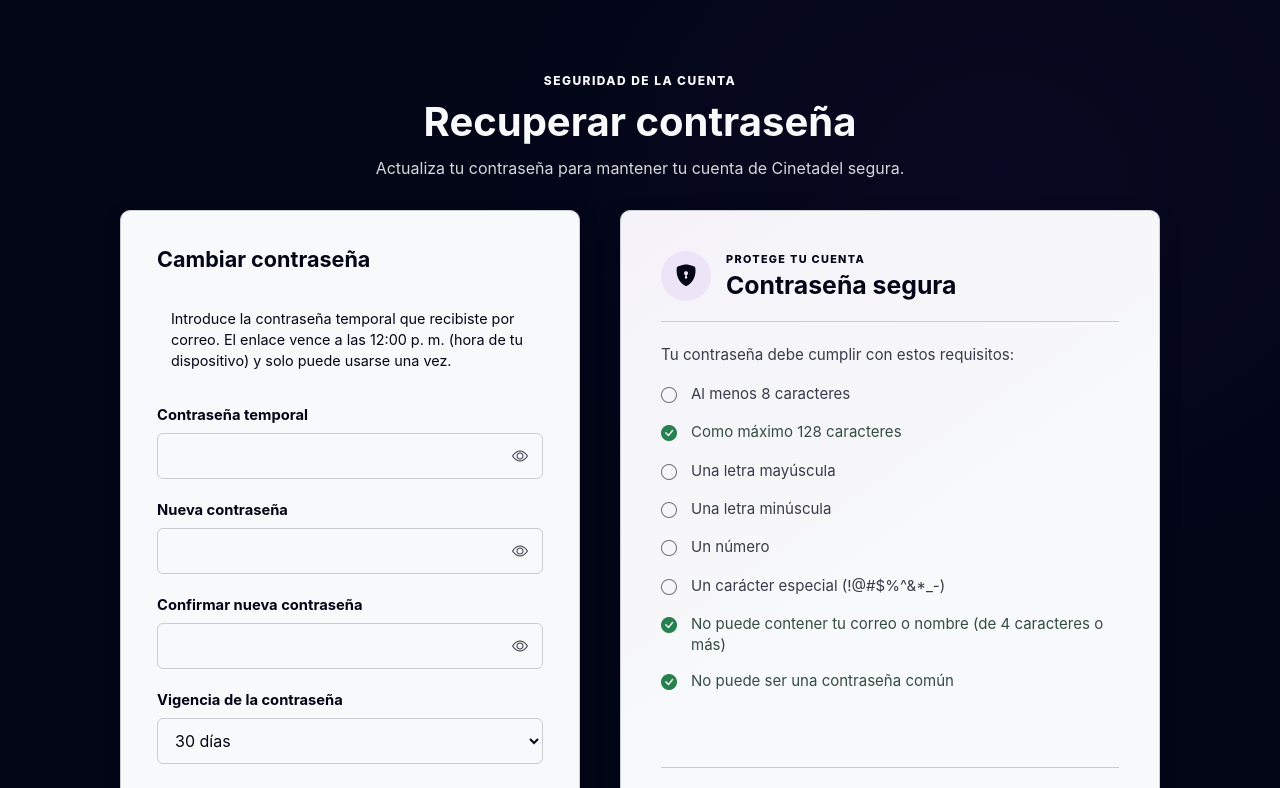
Test case: ChangePasswordView.vue › displays recovery rejection TEMPORARY_PASSWORD_INCORRECT without claiming success
The image size is (1280, 788).
In the password field with id "currentPassword": (350, 456) x1=157 y1=433 x2=543 y2=479, type "temporary"
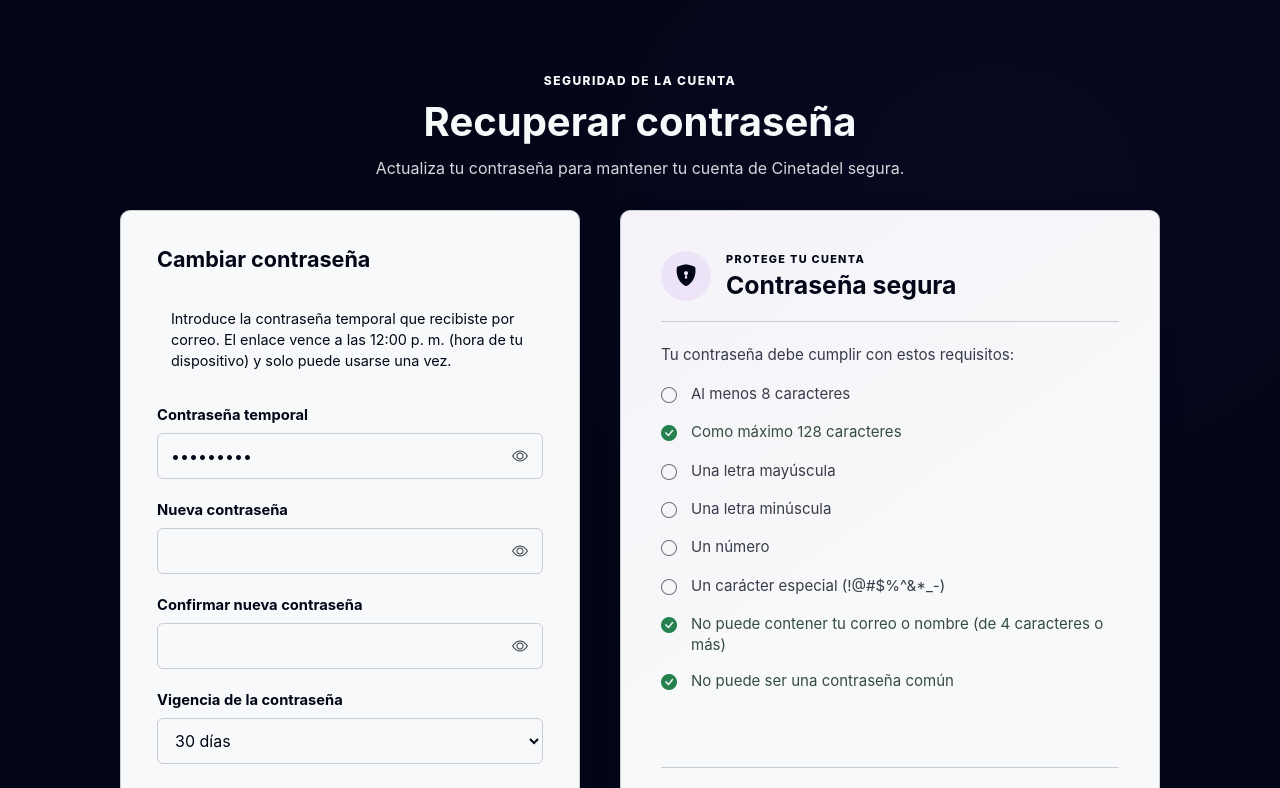
In the password field with id "newPassword": (350, 551) x1=157 y1=528 x2=543 y2=574, type "NewSecret123!"
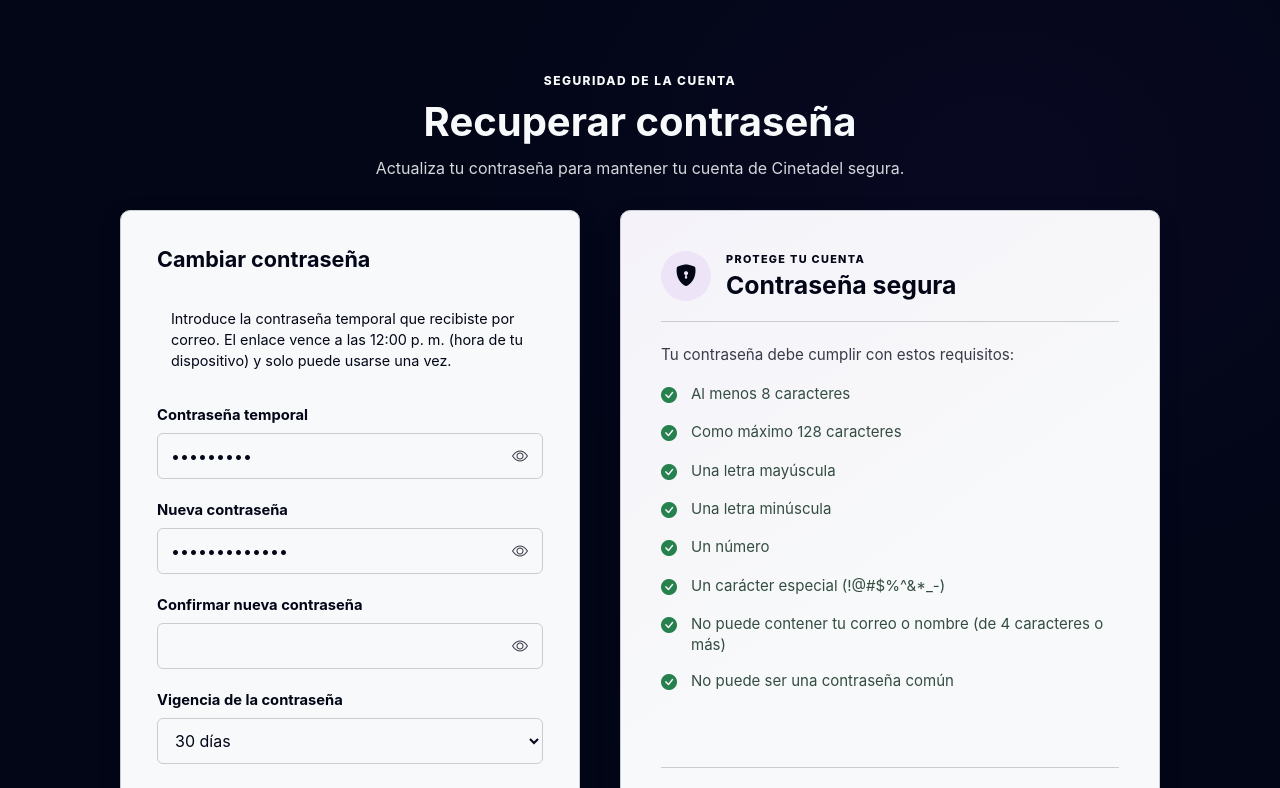
In the password field with id "confirmNewPassword": (350, 646) x1=157 y1=623 x2=543 y2=669, type "NewSecret123!"
(page scrolled)
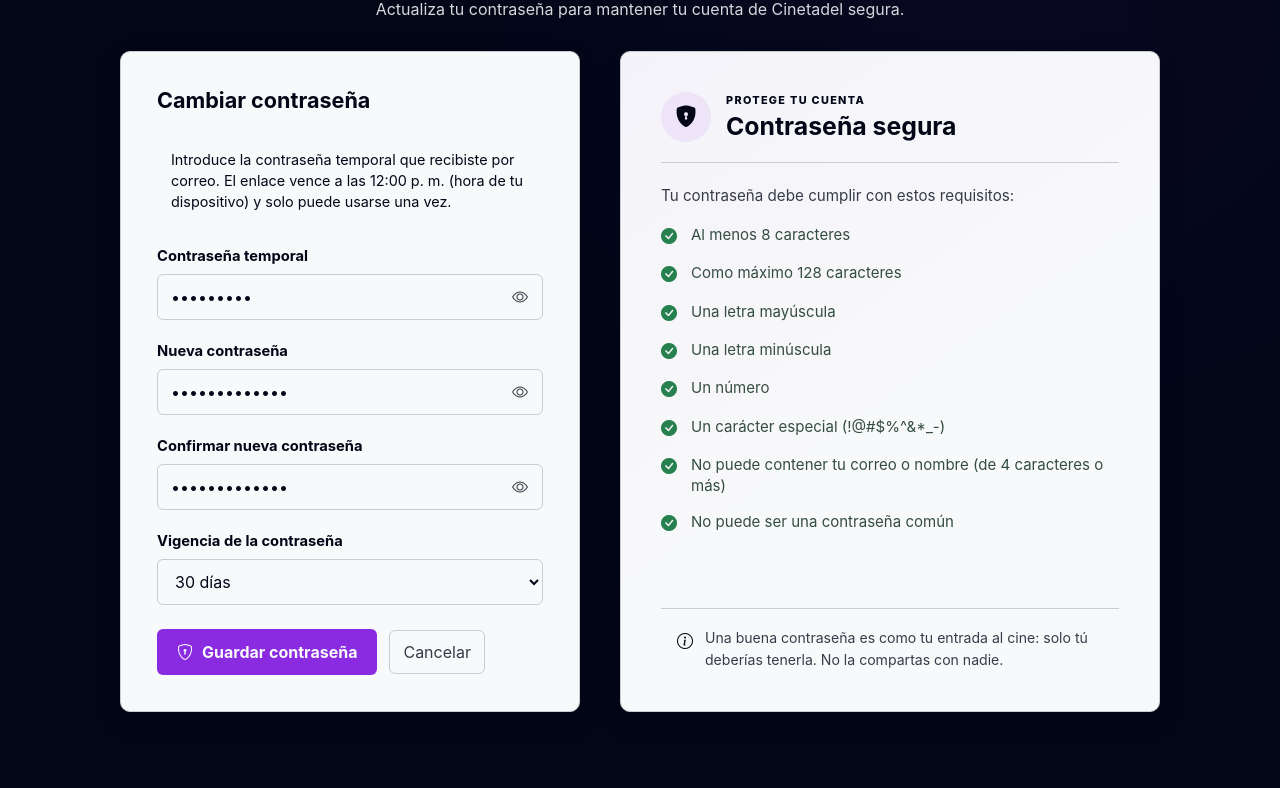
Submit the form, box x1=157 y1=244 x2=543 y2=675
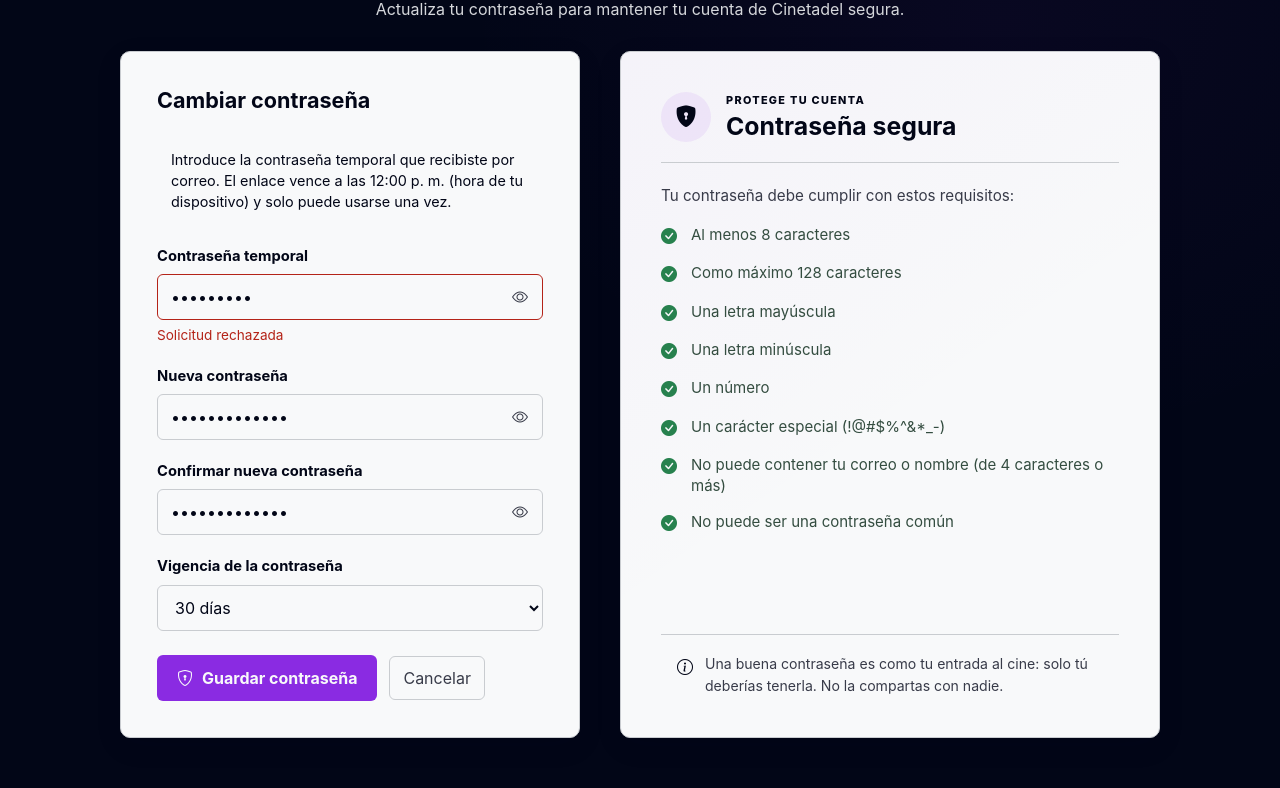
Expected: the form is shown, x1=157 y1=244 x2=543 y2=700
Now the message "Solicitud rechazada" is shown, box x1=157 y1=327 x2=284 y2=343
